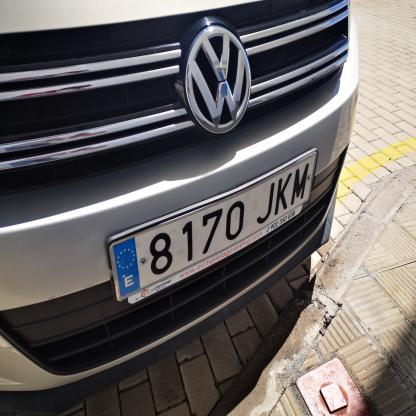patente: (111, 153, 317, 299)
